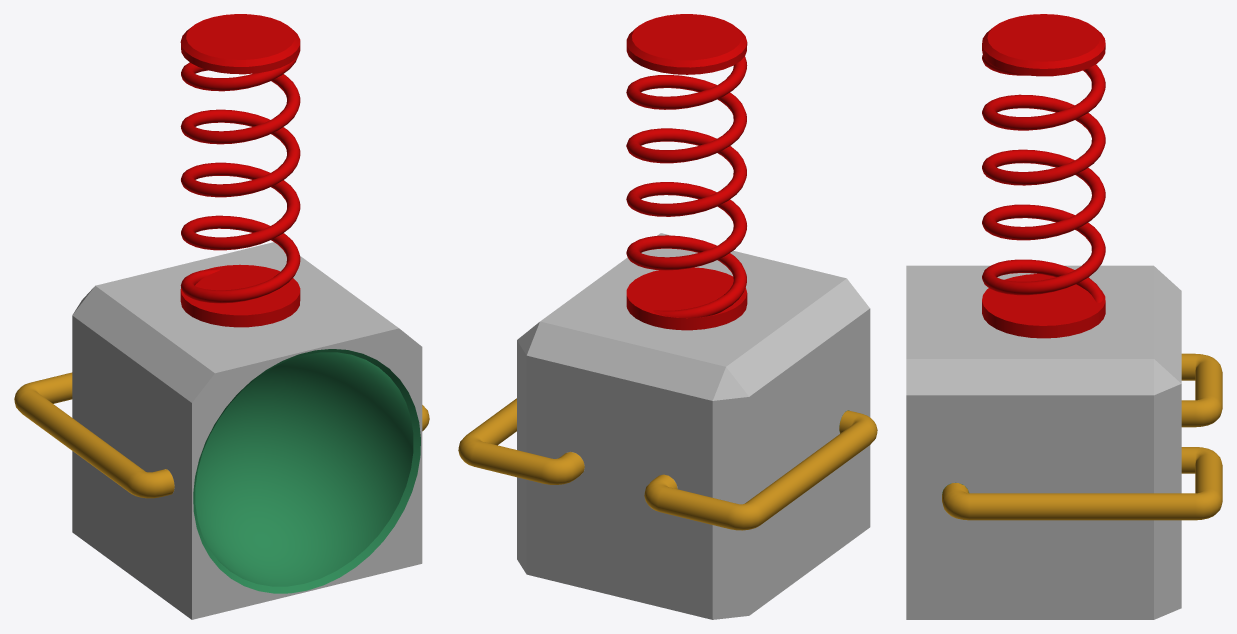
The model's file is Receiver.glb.
3 views of the same model, side by side, from view 1: azimuth 30°, elevation 25°; view 2: azimuth 150°, elevation 25°; view 3: azimuth 270°, elevation 25° (orthographic). The views are drawn at different scales.
Parts seen in each view (by area): view 1: Solide1; view 2: Solide1; view 3: Solide1.
Boxes of the visible parts, bbox=[...] form: Solide1: bbox=[14, 14, 429, 619]; Solide1: bbox=[458, 14, 877, 619]; Solide1: bbox=[906, 14, 1222, 619].
Size of the model in its own units: 1.3 by 2.1 by 1.15.
